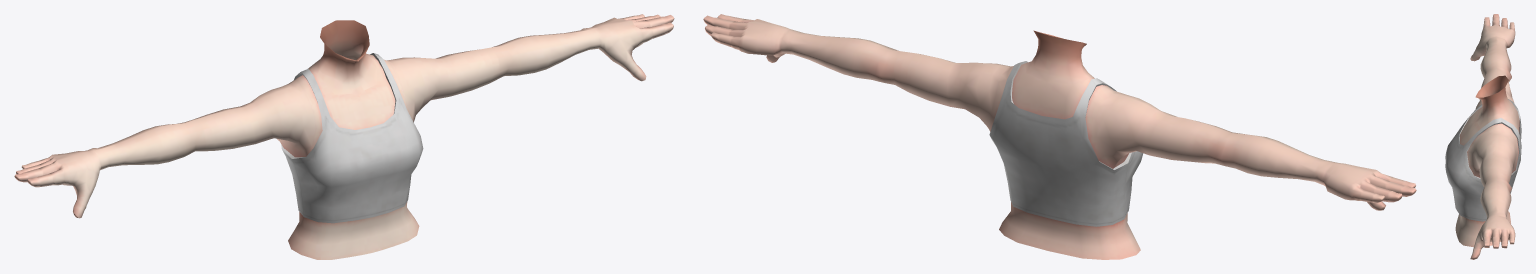
Rendered from tr0870_00_upb01.gltf.
3 views of the same model, side by side, from view 1: azimuth 30°, elevation 25°; view 2: azimuth 150°, elevation 25°; view 3: azimuth 270°, elevation 25° (orthographic). The views are drawn at different scales.
Visible parts, largest first — view 1: upb01_skin_mesh_shape:upperbody01_skin, upb01_wear_mesh_shape:upperbody01; view 2: upb01_skin_mesh_shape:upperbody01_skin, upb01_wear_mesh_shape:upperbody01; view 3: upb01_skin_mesh_shape:upperbody01_skin, upb01_wear_mesh_shape:upperbody01.
Part boxes in pixels (<box>): upb01_skin_mesh_shape:upperbody01_skin: <box>14,14,674,259</box>; upb01_wear_mesh_shape:upperbody01: <box>281,53,423,223</box>; upb01_skin_mesh_shape:upperbody01_skin: <box>703,14,1416,259</box>; upb01_wear_mesh_shape:upperbody01: <box>989,61,1143,226</box>; upb01_skin_mesh_shape:upperbody01_skin: <box>1455,14,1519,259</box>; upb01_wear_mesh_shape:upperbody01: <box>1445,99,1521,221</box>.
Size of what is drawn, in the model's own units: 1.63 by 0.487 by 0.2264.
2 materials, 2 textured.
